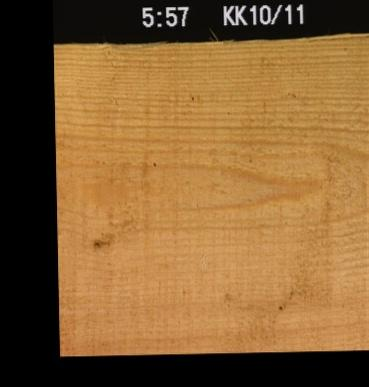small_knot: (89, 237, 101, 250)
